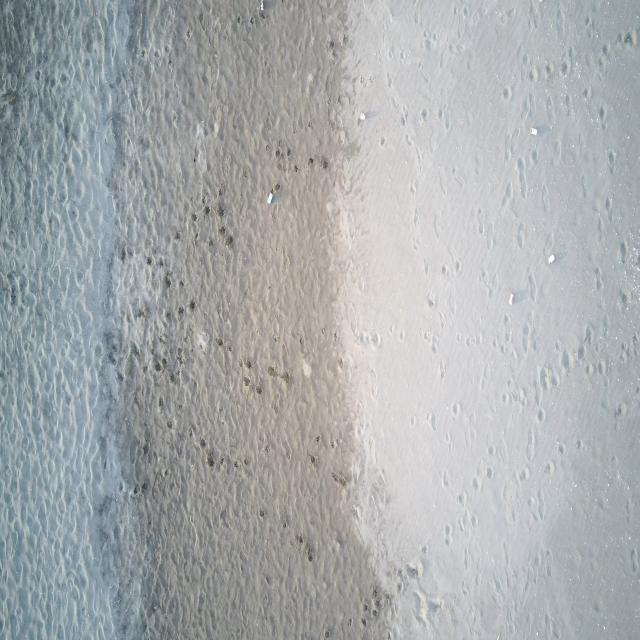Garbage: (547, 253, 555, 263), (267, 191, 272, 203), (507, 293, 513, 303), (529, 127, 536, 135), (359, 111, 364, 120), (260, 0, 263, 11)
